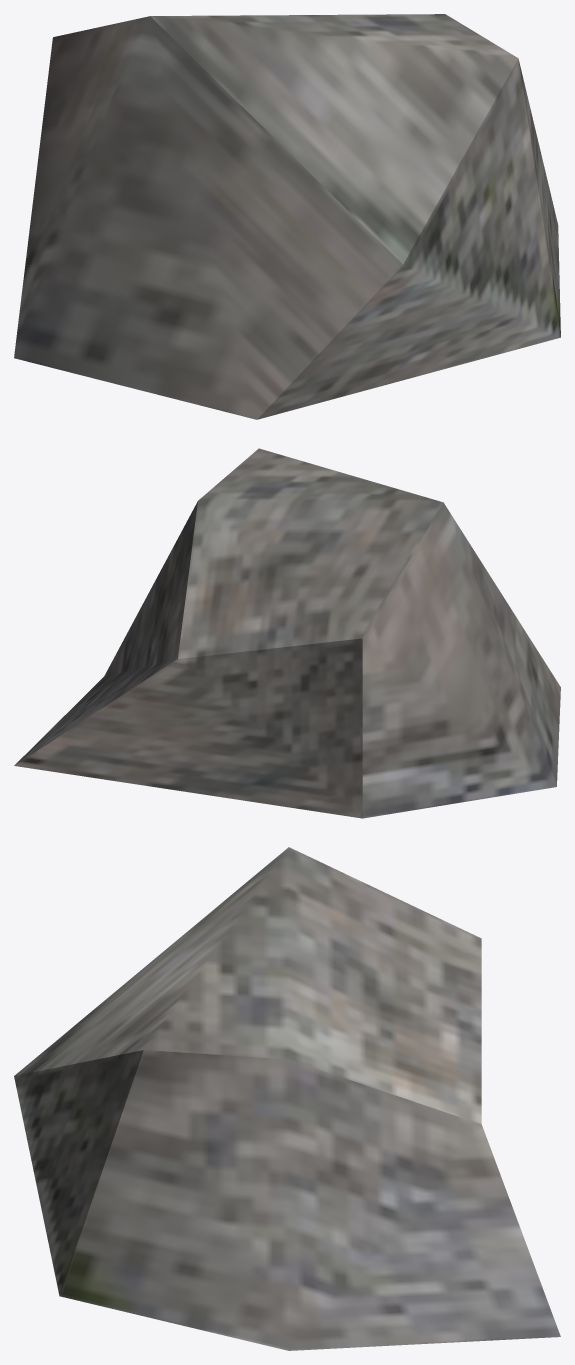
File: Rock_2.fbx
3 views of the same model, one above another, from view 1: azimuth 30°, elevation 25°; view 2: azimuth 150°, elevation 25°; view 3: azimuth 270°, elevation 25° (orthographic). The views are drawn at different scales.
Visible parts, largest first — view 1: pCube1; view 2: pCube1; view 3: pCube1.
Part boxes in pixels (left/top/right/bottom): pCube1: left=14, top=14, right=560, bottom=419; pCube1: left=14, top=448, right=560, bottom=818; pCube1: left=14, top=847, right=560, bottom=1350.
Size of the model in its own units: 1.84 by 1 by 1.62.
